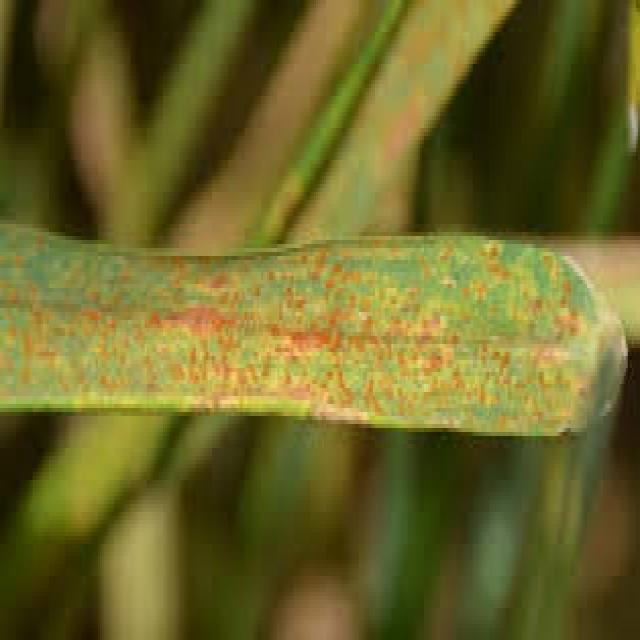leaf rust: (2, 224, 587, 432)
